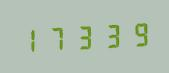nine: (122, 18, 147, 49)
one: (18, 23, 43, 55)
seven: (44, 22, 69, 53)
three: (70, 20, 95, 52), (96, 19, 121, 51)
